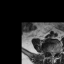CCS_normal: (52, 51, 53, 59)
LFS_severe_stenosis: (55, 50, 57, 55)
LLS_stenosis: (53, 51, 55, 57)
RFS_severe_stenosis: (48, 50, 50, 54)
RLS_normal: (50, 50, 52, 56)
